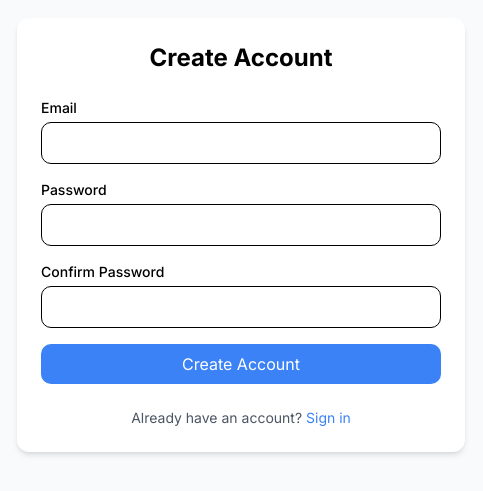
Test: SignUpPage › handles successful sign up
Type "test@example.com" into the field labelled "Email".
click(241, 143); type("test@example.com")  # box [41, 122, 441, 164]
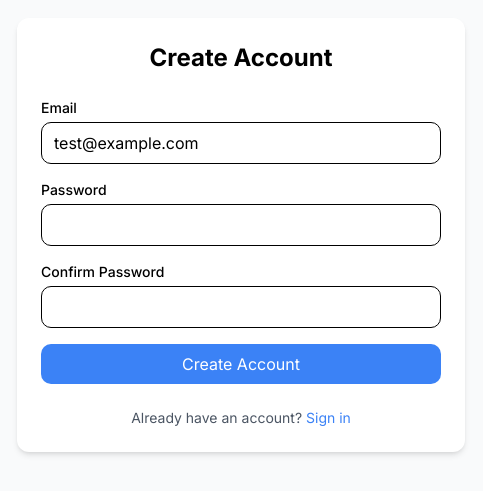
Type "password123" into the password field labelled "Password".
click(241, 225); type("password123")  # box [41, 204, 441, 246]
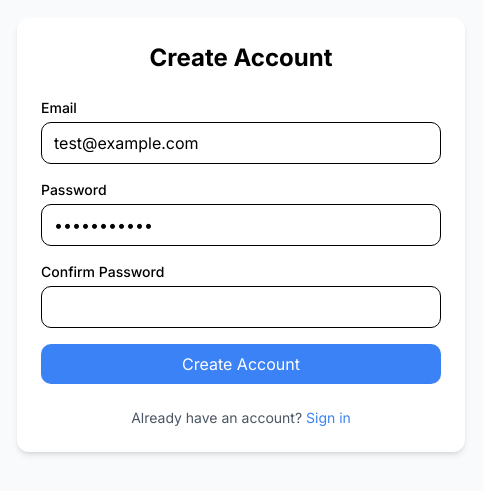
Type "password123" into the password field labelled "Confirm Password".
click(241, 307); type("password123")  # box [41, 286, 441, 328]
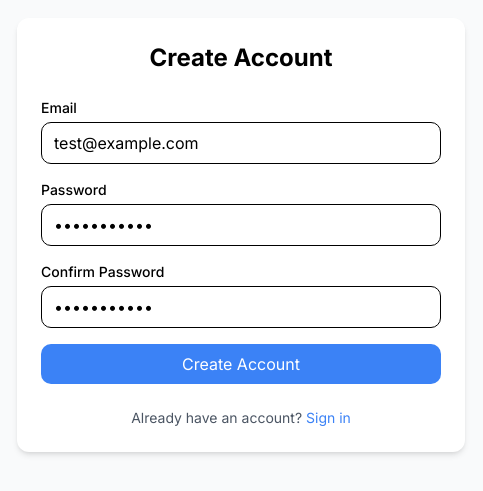
Submit the form from the button "Create Account", box [41, 344, 441, 384]
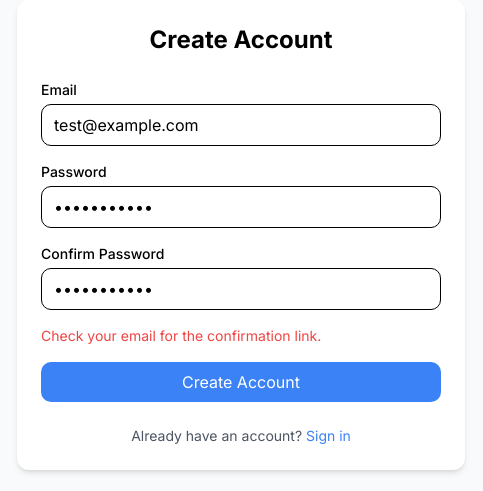
Expected: the text "Check your email for the confirmation link." is shown, [41, 327, 321, 344]
